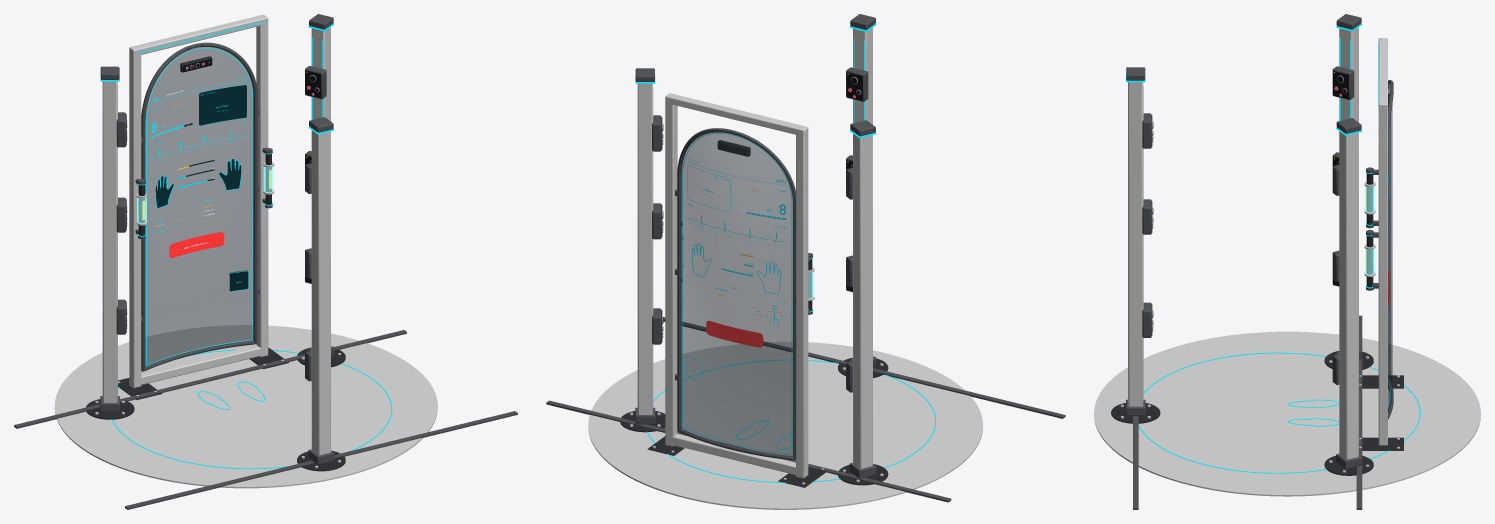
File: LYRA_V1_Empty.glb
3 views of the same model, side by side, from view 1: azimuth 30°, elevation 25°; view 2: azimuth 150°, elevation 25°; view 3: azimuth 270°, elevation 25° (orthographic). The views are drawn at different scales.
Visible parts, largest first — view 1: Platform, Mirror_Glass, Pillar_Back_Column, Pillar_FrontL_Column, Stand_Leg_L, Stand_Leg_R, Mirror_Frame, SeatTrack, Stand_BottomBar, UI_FacePanel, SeatTrack.001, Stand_TopBar (+4 smaller); view 2: Platform, Mirror_Glass, Pillar_FrontL_Column, Pillar_FrontR_Column, Stand_Leg_L, Stand_Leg_R, Mirror_Frame, Stand_TopBar, Stand_BottomBar, SeatTrack, Pillar_Back_Column, SeatTrack.001 (+3 smaller); view 3: Platform, Pillar_FrontR_Column, Pillar_Back_Column, Stand_Leg_R, Mirror_Glass, Pillar_FrontL_Column, SeatTrack.001, Platform_PillarRing, Stand_TopBar, SeatTrack, Pillar_Back_BasePlate, Pillar_FrontR_BasePlate (+1 smaller).
Boxes of the visible parts, <box> form: Platform: <box>54,325,437,488</box>; Mirror_Glass: <box>145,47,253,366</box>; Pillar_Back_Column: <box>311,130,330,455</box>; Pillar_FrontL_Column: <box>102,81,117,402</box>; Stand_Leg_L: <box>129,50,141,388</box>; Stand_Leg_R: <box>256,20,268,357</box>; Mirror_Frame: <box>141,42,257,371</box>; SeatTrack: <box>125,411,517,509</box>; Stand_BottomBar: <box>129,345,268,385</box>; UI_FacePanel: <box>199,85,246,125</box>; SeatTrack.001: <box>14,330,406,428</box>; Stand_TopBar: <box>129,14,268,55</box>; Platform: <box>588,341,982,509</box>; Mirror_Glass: <box>680,132,792,456</box>; Pillar_FrontL_Column: <box>853,134,872,468</box>; Pillar_FrontR_Column: <box>637,83,652,414</box>; Stand_Leg_L: <box>796,130,808,478</box>; Stand_Leg_R: <box>665,99,677,446</box>; Mirror_Frame: <box>677,128,795,460</box>; Stand_TopBar: <box>665,93,808,135</box>; Stand_BottomBar: <box>665,433,805,476</box>; SeatTrack: <box>663,317,1065,418</box>; Pillar_Back_Column: <box>853,27,872,124</box>; SeatTrack.001: <box>546,400,951,502</box>; Platform: <box>1094,331,1480,496</box>; Pillar_FrontR_Column: <box>1339,131,1358,459</box>; Pillar_Back_Column: <box>1128,82,1143,406</box>; Stand_Leg_R: <box>1378,106,1387,445</box>; Mirror_Glass: <box>1388,84,1392,413</box>; Pillar_FrontL_Column: <box>1339,27,1358,122</box>; SeatTrack.001: <box>1356,315,1362,509</box>; Platform_PillarRing: <box>1138,352,1420,473</box>; Stand_TopBar: <box>1378,38,1387,109</box>; SeatTrack: <box>1133,416,1138,509</box>; Pillar_Back_BasePlate: <box>1111,403,1160,423</box>; Pillar_FrontR_BasePlate: <box>1324,455,1373,475</box>.
Size of what is drawn, in the model's own units: 2.4 by 2 by 2.04.
